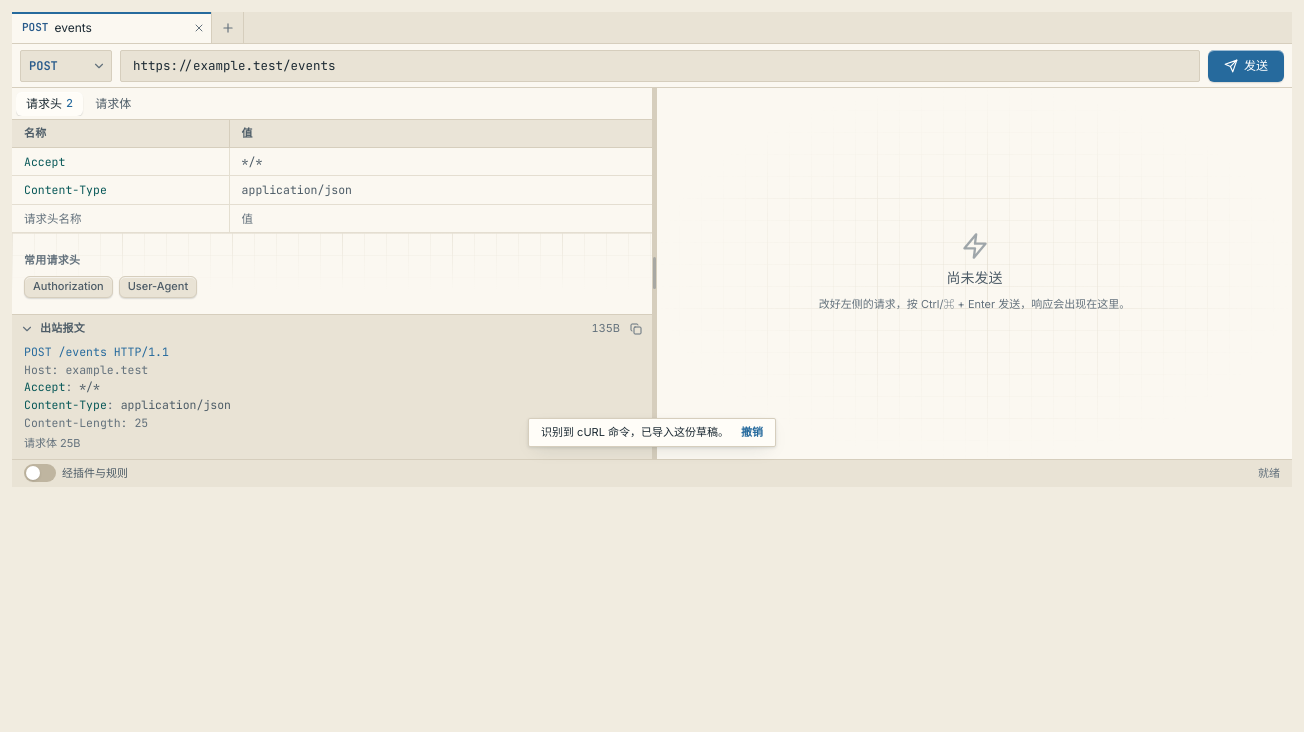
Test: 首轮回填后漏掉流事件，可根据完成响应头补回 SSE
The width and height of the screenshot is (1304, 732).
Click the button "发送" at (1246, 66), box [1208, 50, 1284, 82]
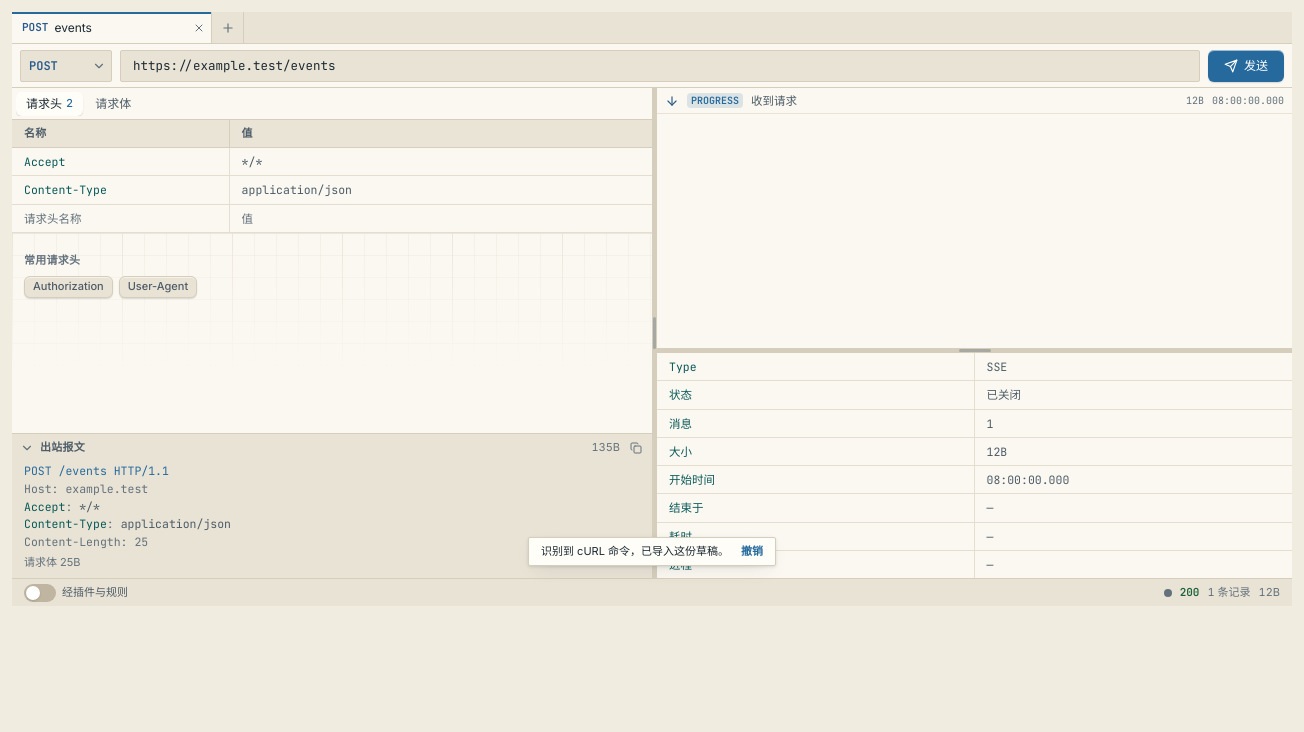
Expected: the text "PROGRESS" is shown, [687, 93, 743, 108]
